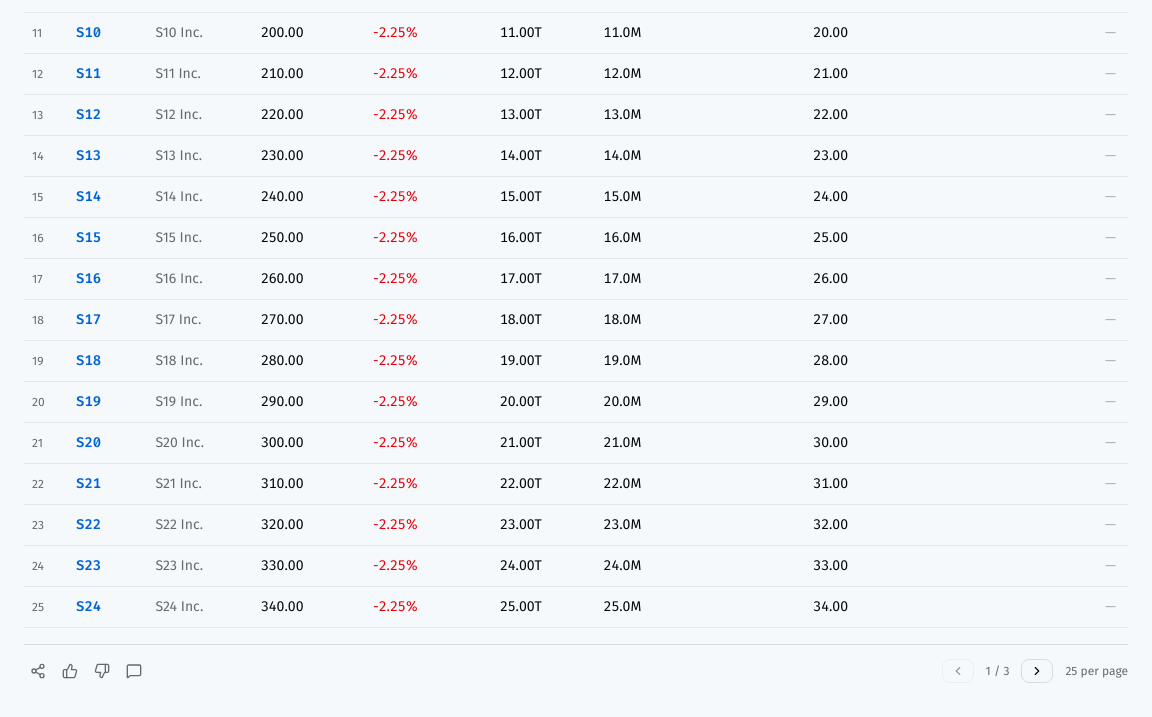
Test: paging at 25 per screen › row numbers continue across pages
(page scrolled)
Click the button named "Next page".
click(1037, 671)  # box [1021,659,1053,683]
(page scrolled)
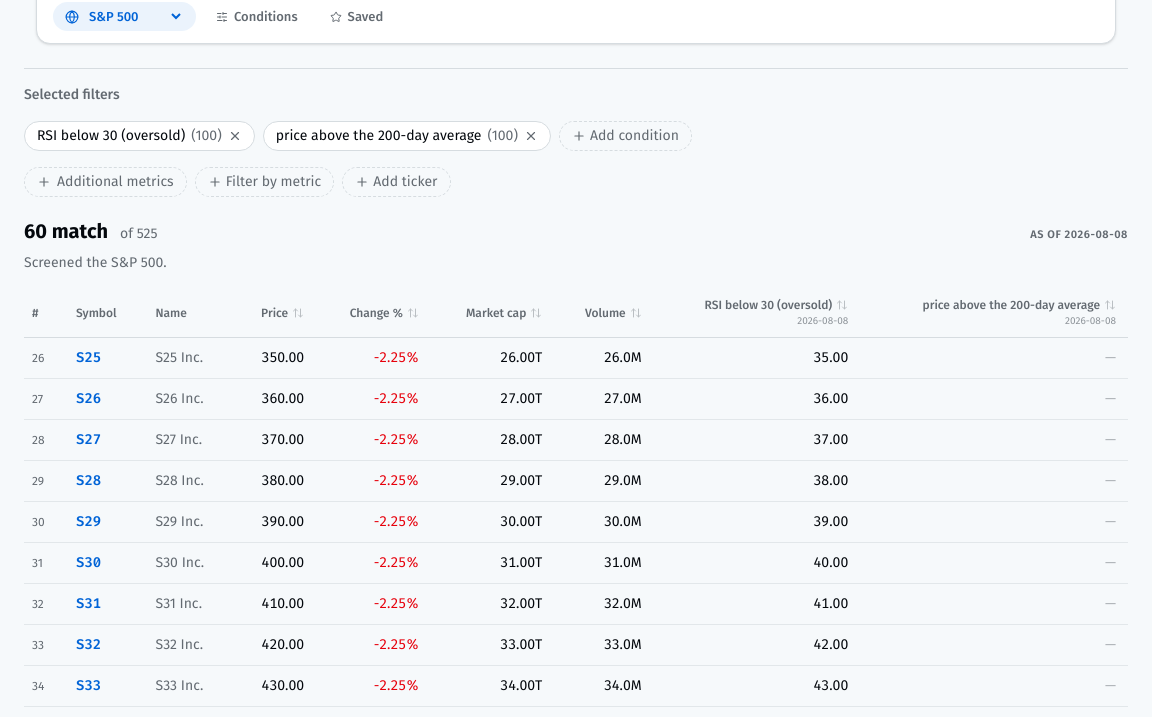
Expected: the row with test id "result-row" shows "26", [32,351,44,365]
